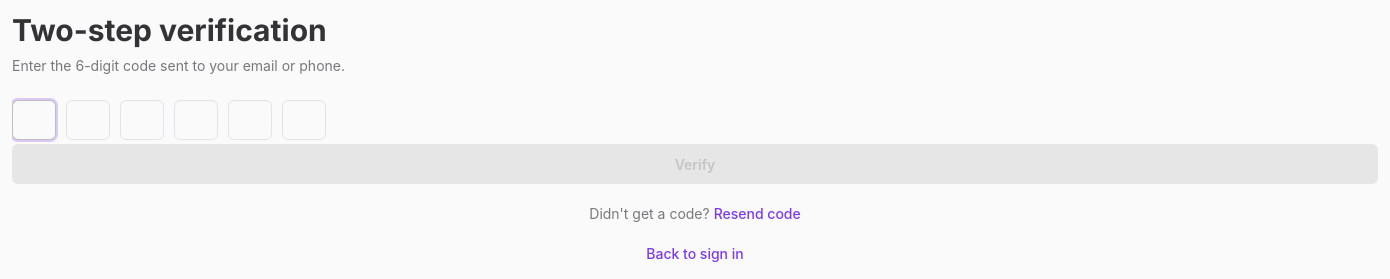
Scenario: two-step verification form › keeps the Verify button disabled until the code is fully entered
Expected: the submit button is disabled, 12,144 -> 1378,184
In the field named "Digit 1 of 6": (34, 120) 12,100 -> 56,140, type "1"
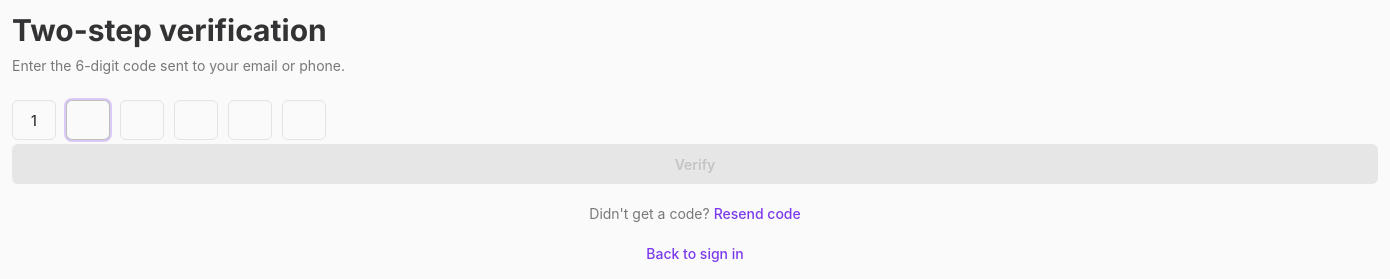
In the field named "Digit 2 of 6": (88, 120) 66,100 -> 110,140, type "1"
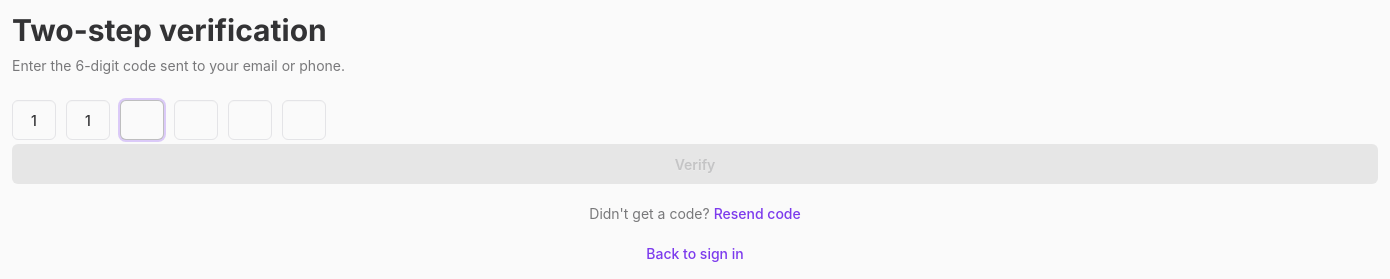
In the field named "Digit 3 of 6": (142, 120) 120,100 -> 164,140, type "1"
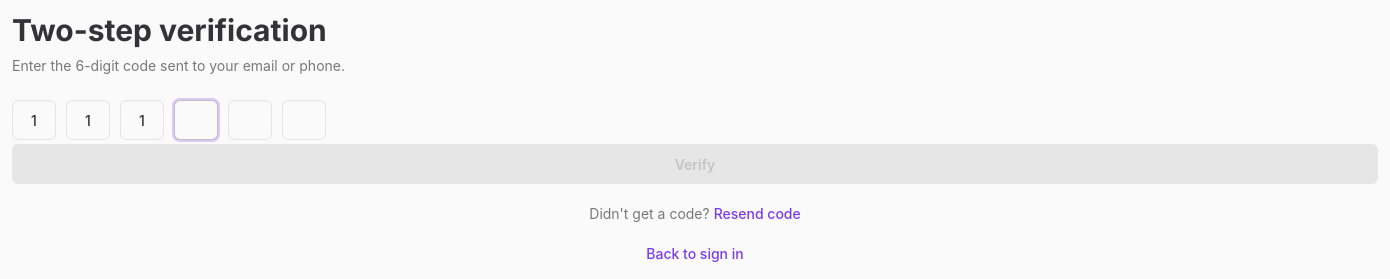
In the field named "Digit 4 of 6": (196, 120) 174,100 -> 218,140, type "1"
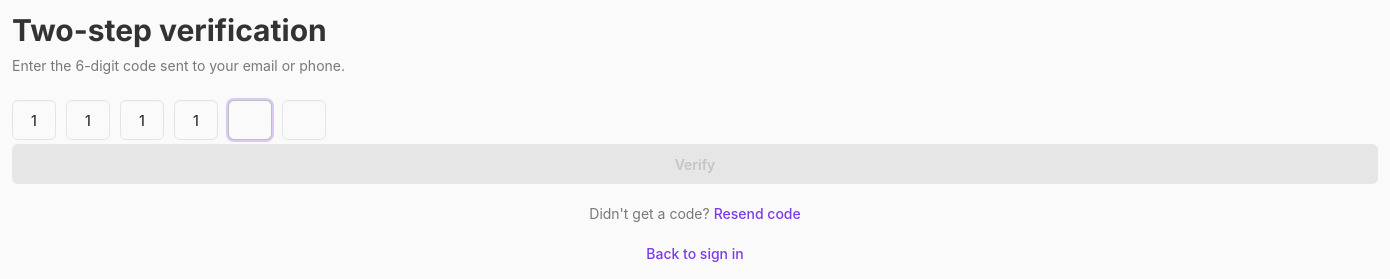
In the field named "Digit 5 of 6": (250, 120) 228,100 -> 272,140, type "1"
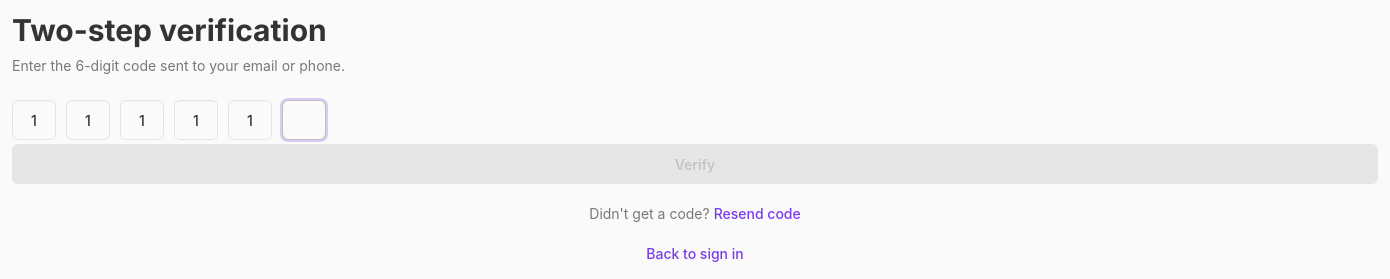
In the field named "Digit 6 of 6": (304, 120) 282,100 -> 326,140, type "1"
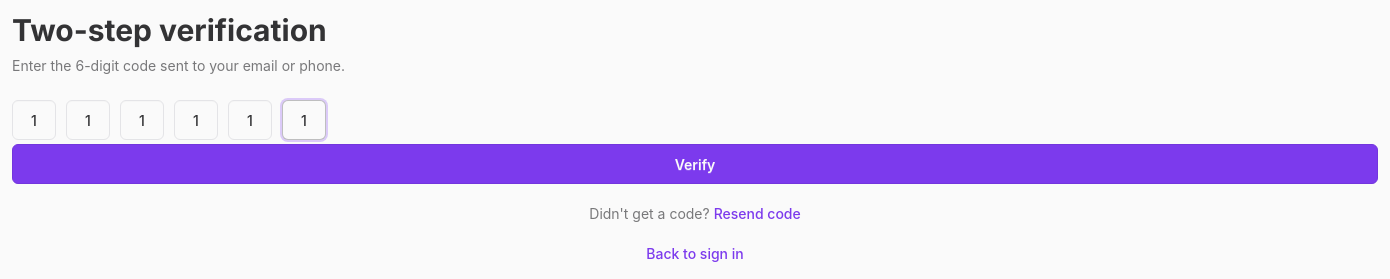
Expected: the submit button is enabled, 12,144 -> 1378,184
